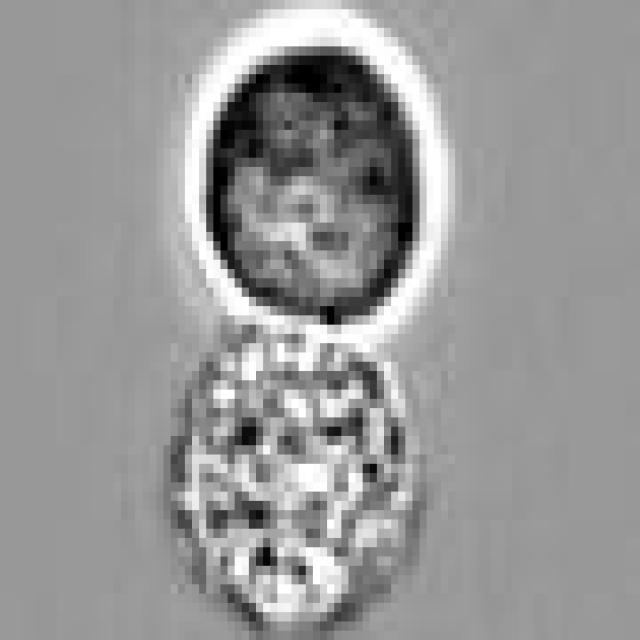Cancer Cell: (192, 37, 420, 325)
WBC: (170, 316, 412, 622)
